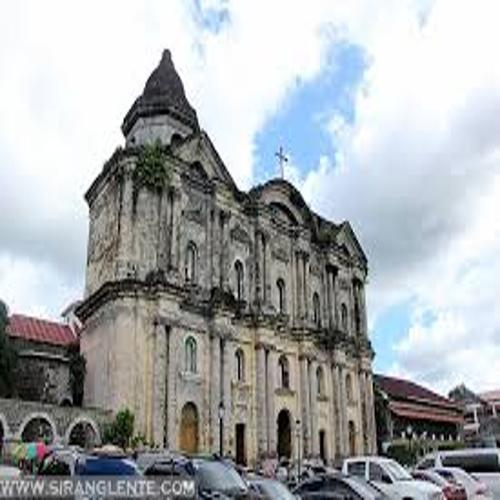Taal Basilica Church: (74, 36, 381, 475)
